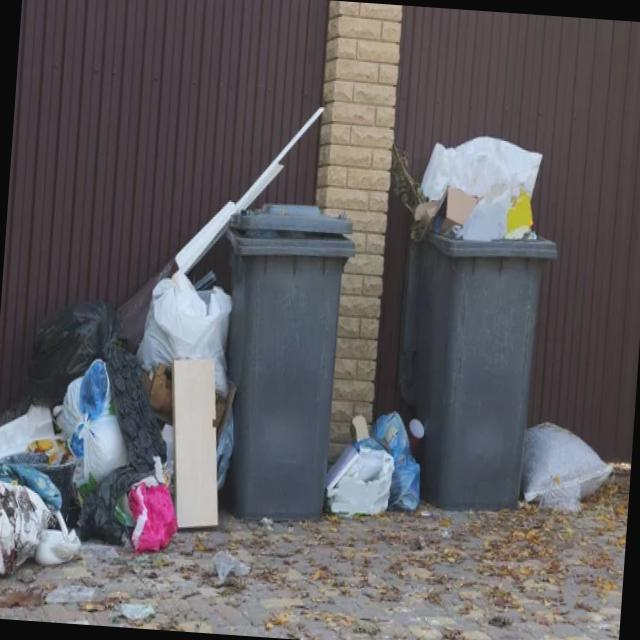garbage: (0, 247, 236, 601)
